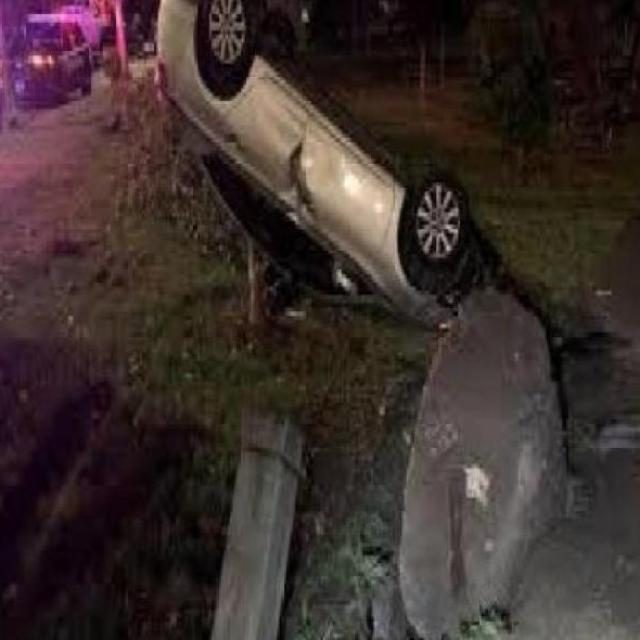accident: (150, 0, 493, 335)
